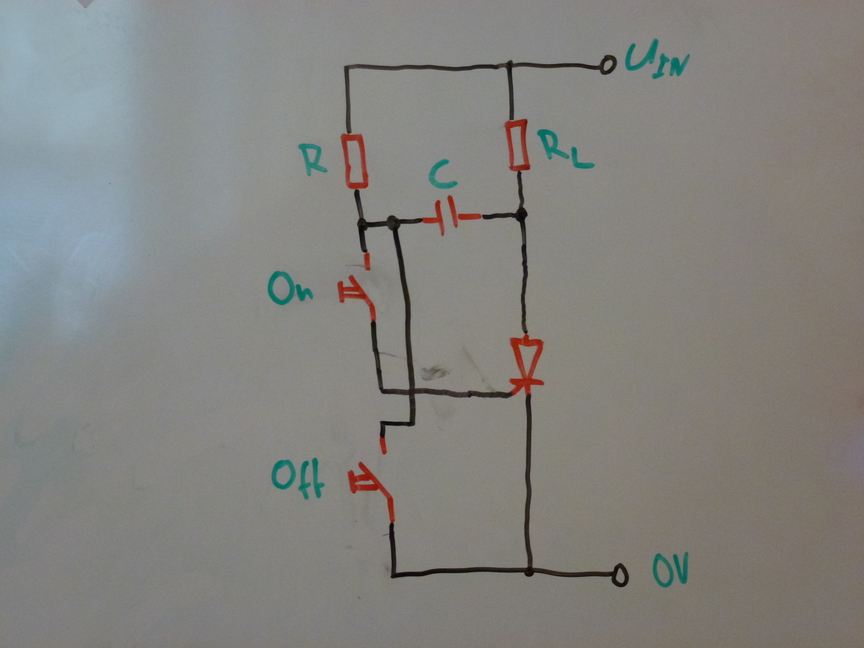capacitor.unpolarized: (421, 195, 481, 236)
crossover: (404, 384, 420, 398)
junction: (386, 215, 400, 232), (515, 206, 528, 223), (523, 564, 537, 579), (356, 217, 368, 232), (388, 569, 401, 582), (375, 384, 387, 397), (342, 62, 353, 73), (406, 418, 418, 428), (505, 59, 514, 71), (378, 419, 388, 429)
resistor: (339, 131, 371, 191), (503, 118, 532, 172)
switch: (348, 438, 395, 522), (337, 253, 378, 321)
terminal: (610, 561, 631, 589), (596, 53, 618, 76)
text: (624, 38, 691, 79), (536, 127, 596, 171), (270, 458, 326, 501), (267, 270, 314, 306), (651, 551, 690, 588), (297, 142, 328, 178), (428, 158, 458, 190)
thyristor: (508, 334, 546, 395)
